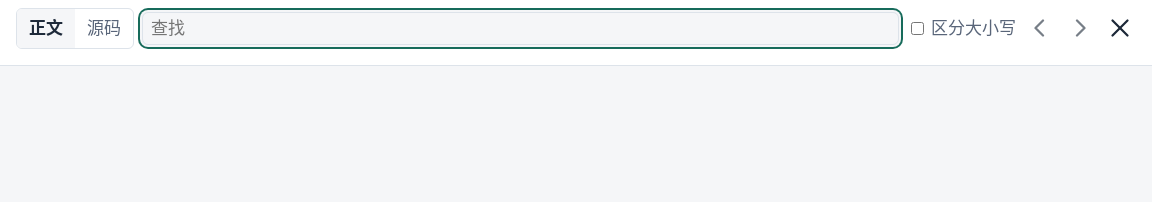
Test: SearchBar › EDGE-05: Enter next / Shift+Enter previous with the wrap notice
Type "match" into the search field at (520,28), box [142,12,899,45]
Wait 150 ms
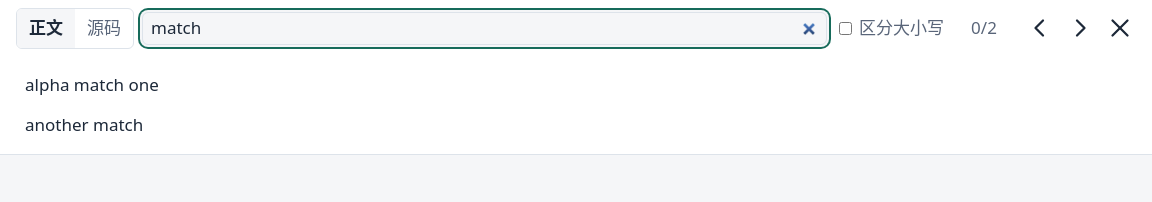
Press Enter in the search field, box [142,12,827,45]
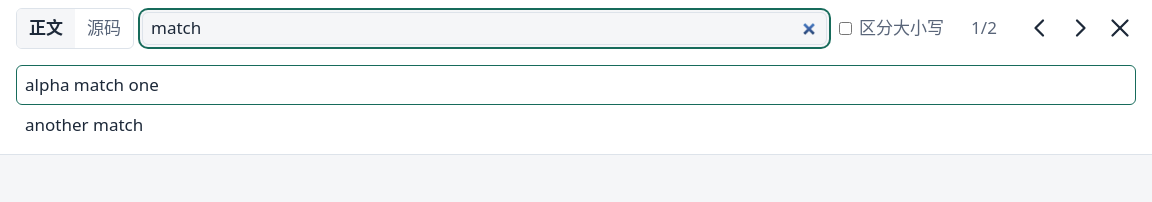
Press Enter in the search field, box [142,12,827,45]
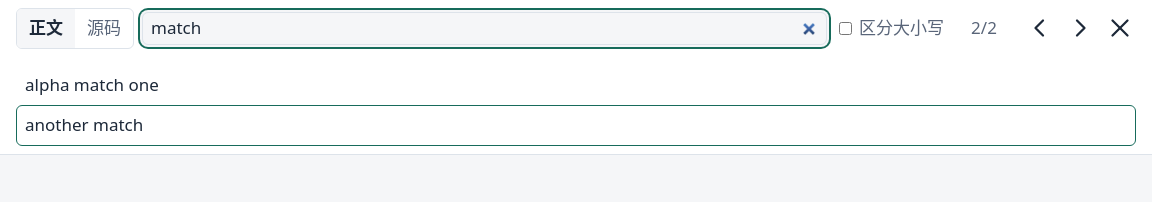
Press Enter in the search field, box [142,12,827,45]
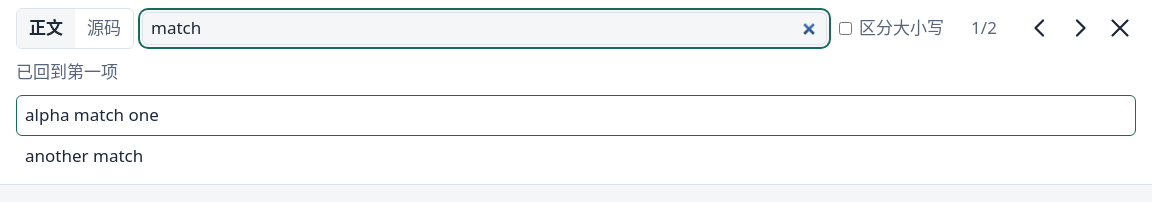
Expected: the text "已回到第一项" is shown, [16,60,118,83]
Press Enter in the search field, box [142,12,827,45]
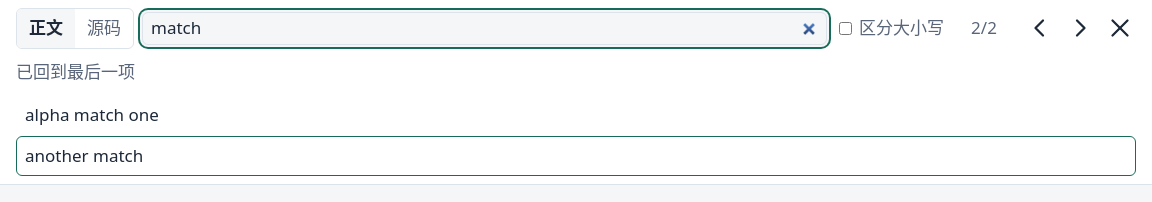
Expected: the text "已回到最后一项" is shown, [16,60,135,83]
